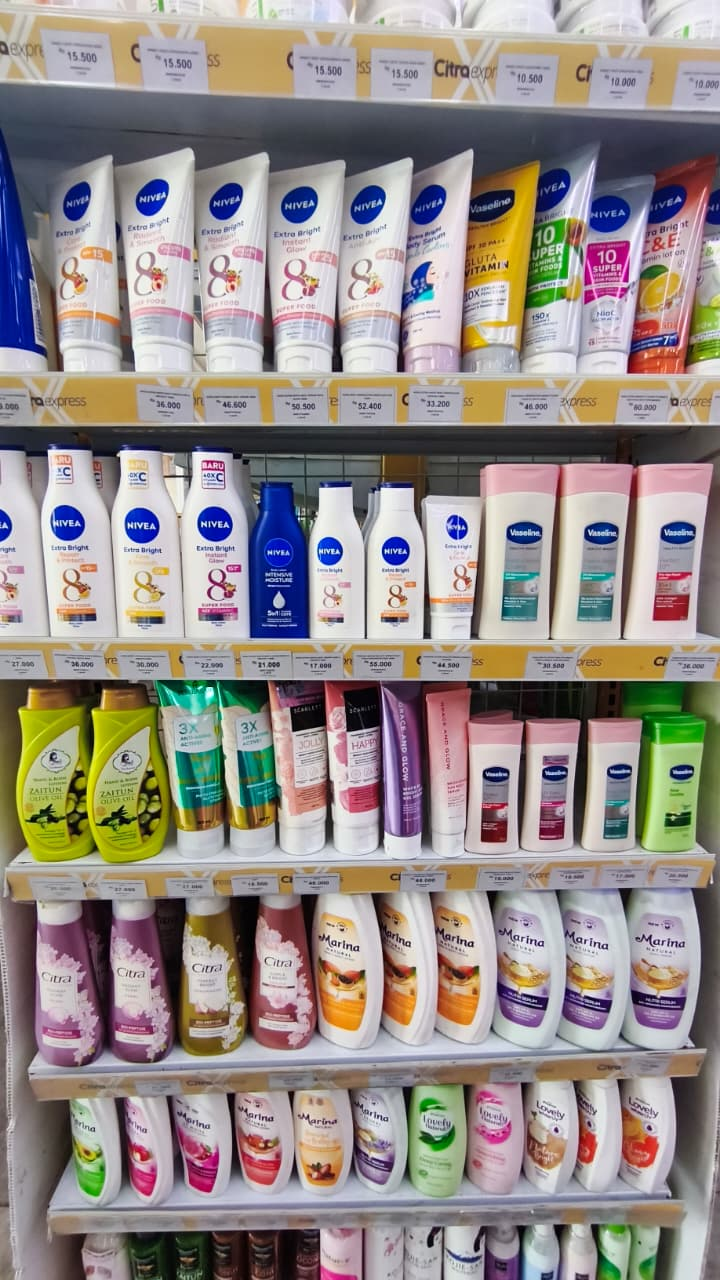Marina: (299, 895, 379, 1007), (276, 1079, 356, 1191), (635, 892, 715, 1004), (546, 894, 626, 1006), (416, 885, 496, 997)
Nivea: (183, 448, 259, 576), (327, 156, 403, 284), (116, 147, 192, 275)
Vaseline: (481, 470, 557, 598), (640, 473, 716, 601)
